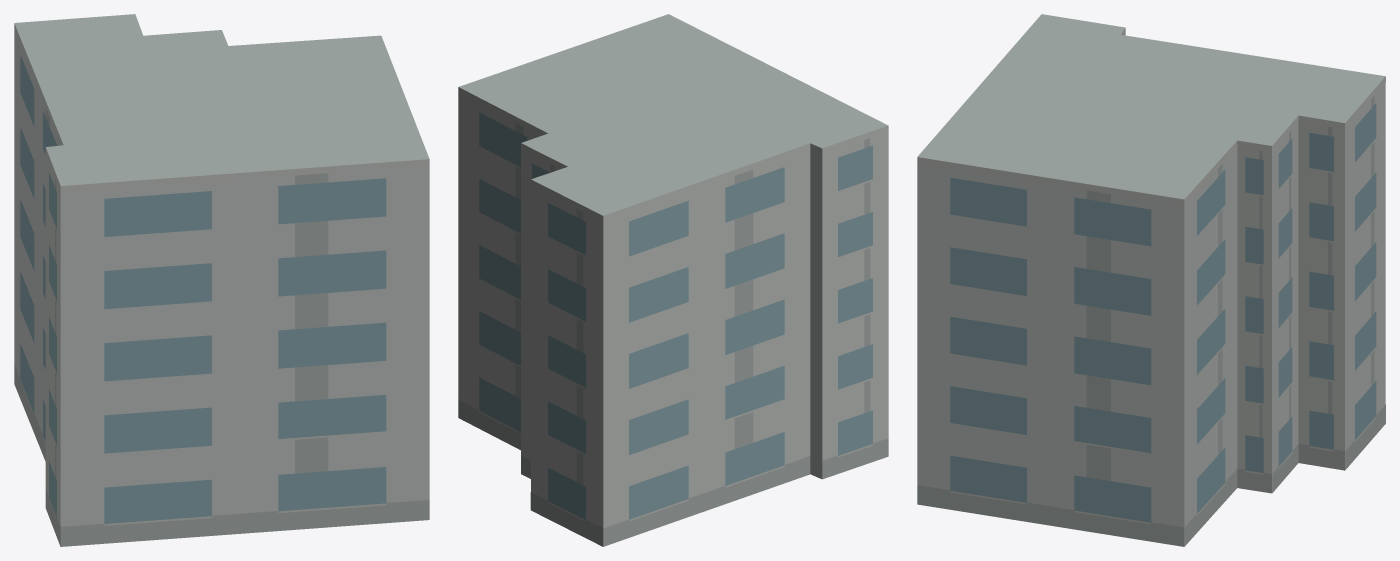
The model's file is survey-upis-32893455.glb.
3 renders of one model, left to right at view 1: azimuth 30°, elevation 25°; view 2: azimuth 150°, elevation 25°; view 3: azimuth 270°, elevation 25°, orthographic. The views are drawn at different scales.
Parts seen in each view (by area): view 1: survey-upis-32893455.tmp; view 2: survey-upis-32893455.tmp; view 3: survey-upis-32893455.tmp.
Part boxes in pixels (<box>): survey-upis-32893455.tmp: <box>14,14,429,546</box>; survey-upis-32893455.tmp: <box>458,14,888,546</box>; survey-upis-32893455.tmp: <box>917,14,1385,546</box>.
Bounding box in the file's own units: 15.12 × 13.2 × 16.15.
